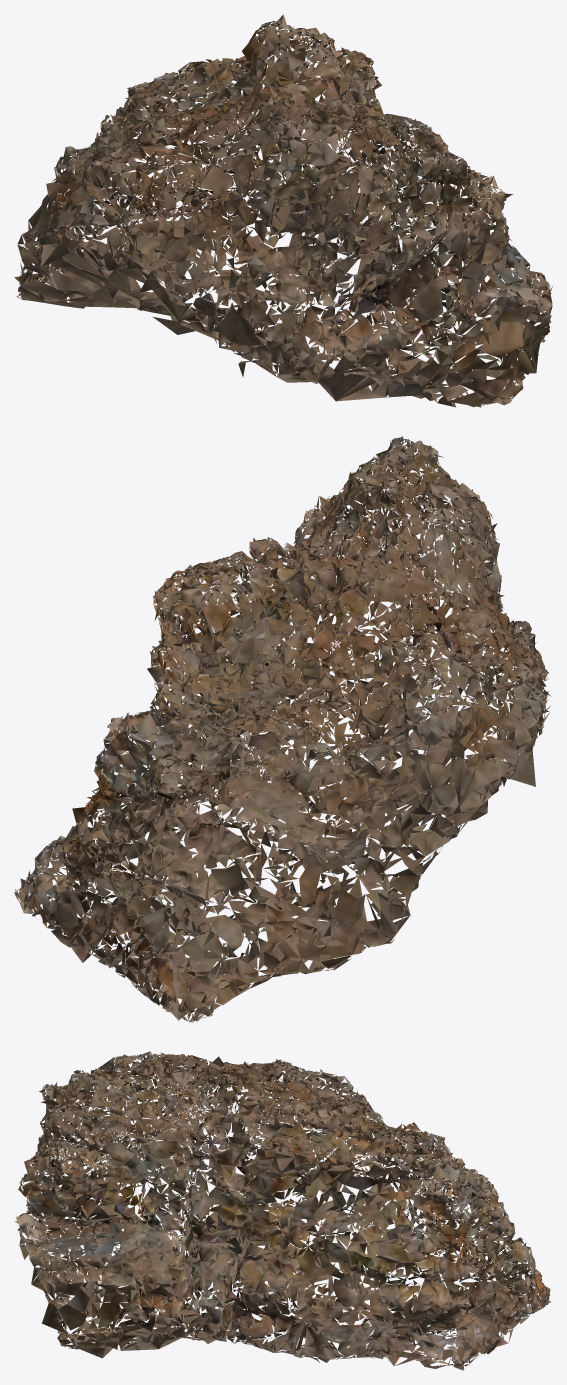
File: rock_c.hi.glb
The picture shows the model from 3 angles, top to bottom: view 1: azimuth 30°, elevation 25°; view 2: azimuth 150°, elevation 25°; view 3: azimuth 270°, elevation 25°; orthographic projection. The views are drawn at different scales.
Visible parts, largest first — view 1: boulder_01; view 2: boulder_01; view 3: boulder_01.
Boxes of the visible parts, x1,y1,x2,y2 form: boulder_01: [14, 14, 552, 407]; boulder_01: [14, 436, 550, 1022]; boulder_01: [15, 1051, 550, 1370].
Size of the model in its own units: 1.3 by 1.01 by 1.84.
1 material, 1 textured.
